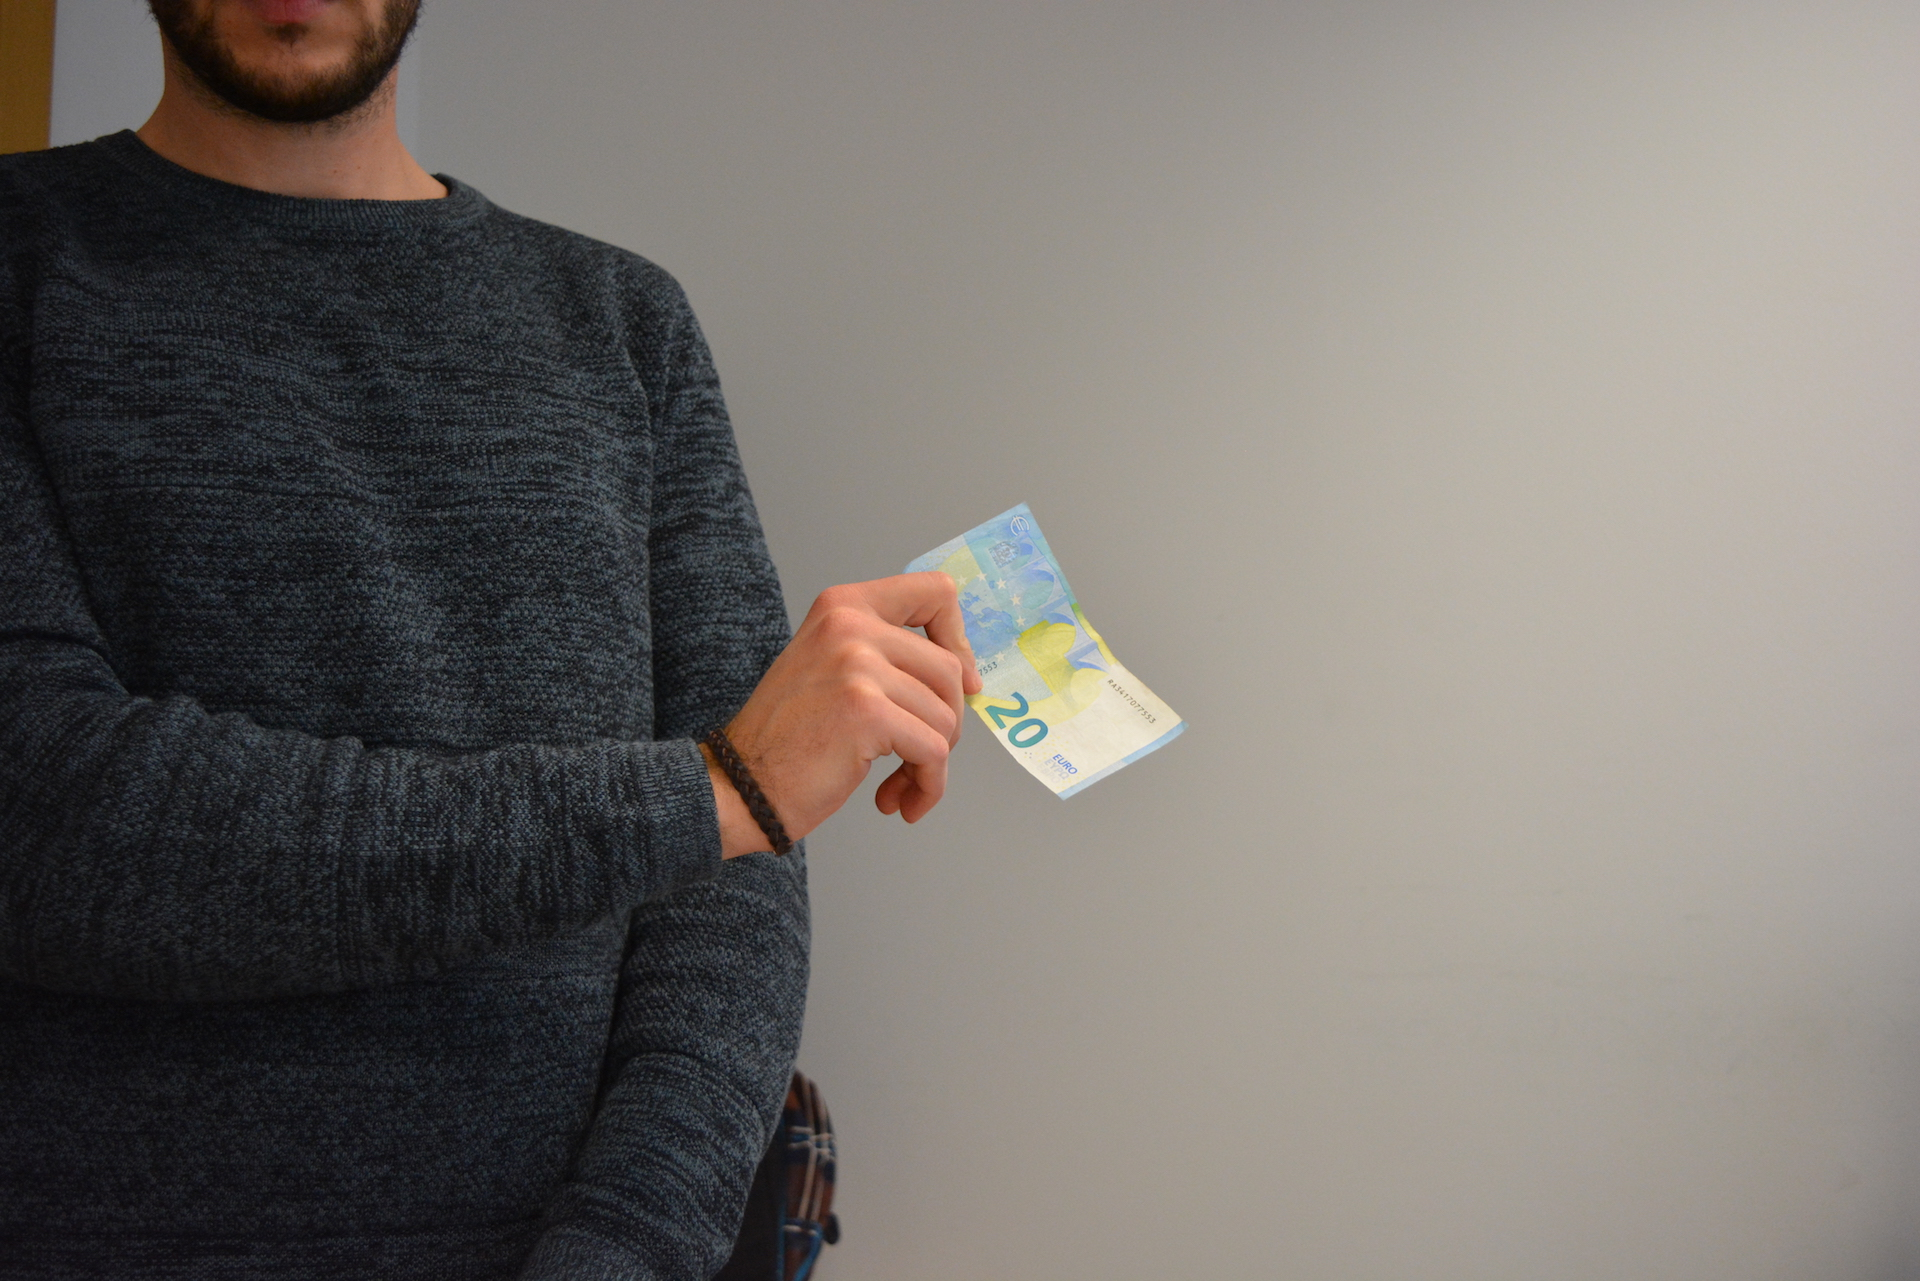billete: (899, 500, 1194, 802)
